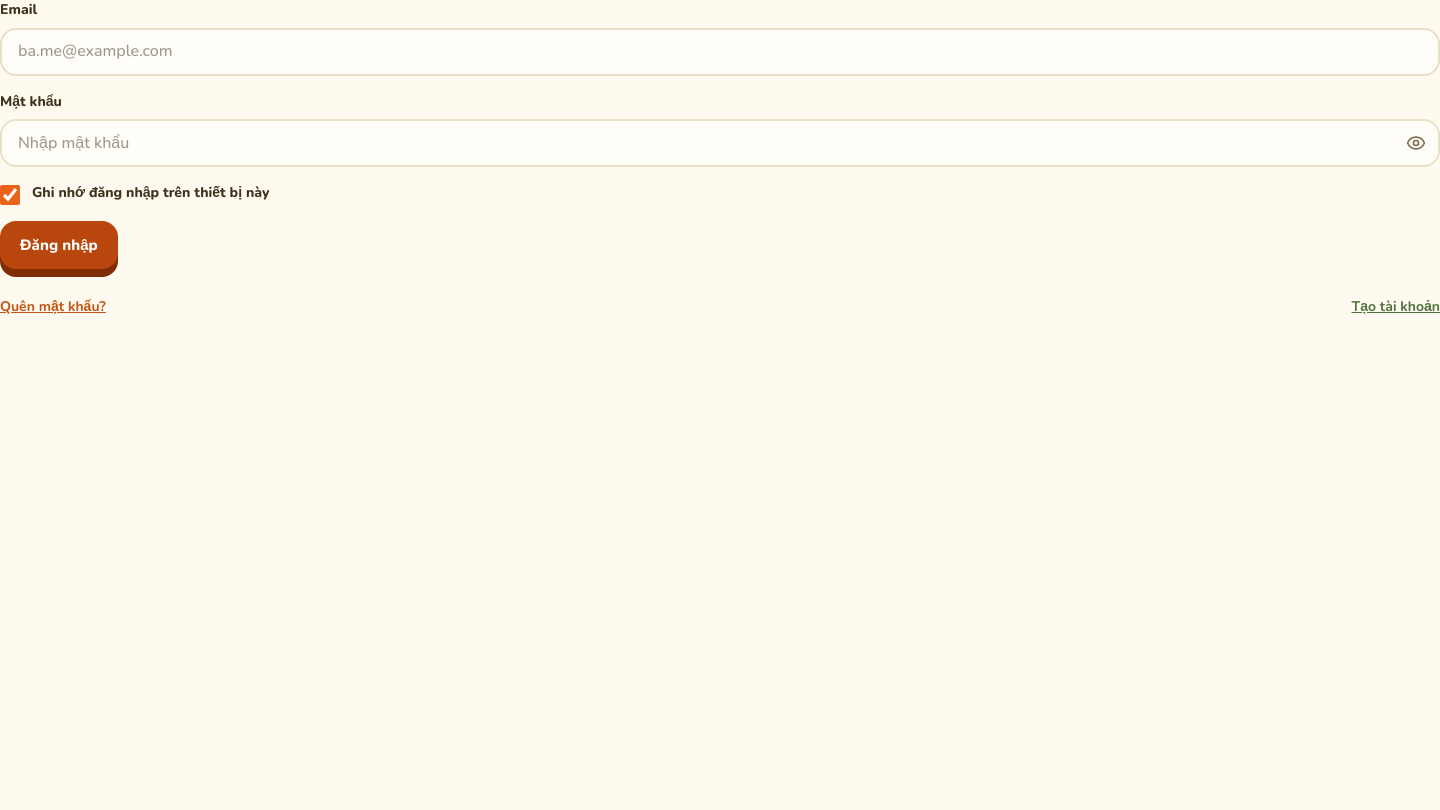
Test case: authentication verification UX › opens the verification dialog instead of exposing the English server error
In the field labelled "Email": (720, 52) [0,28,1439,76], type "parent@example.com"
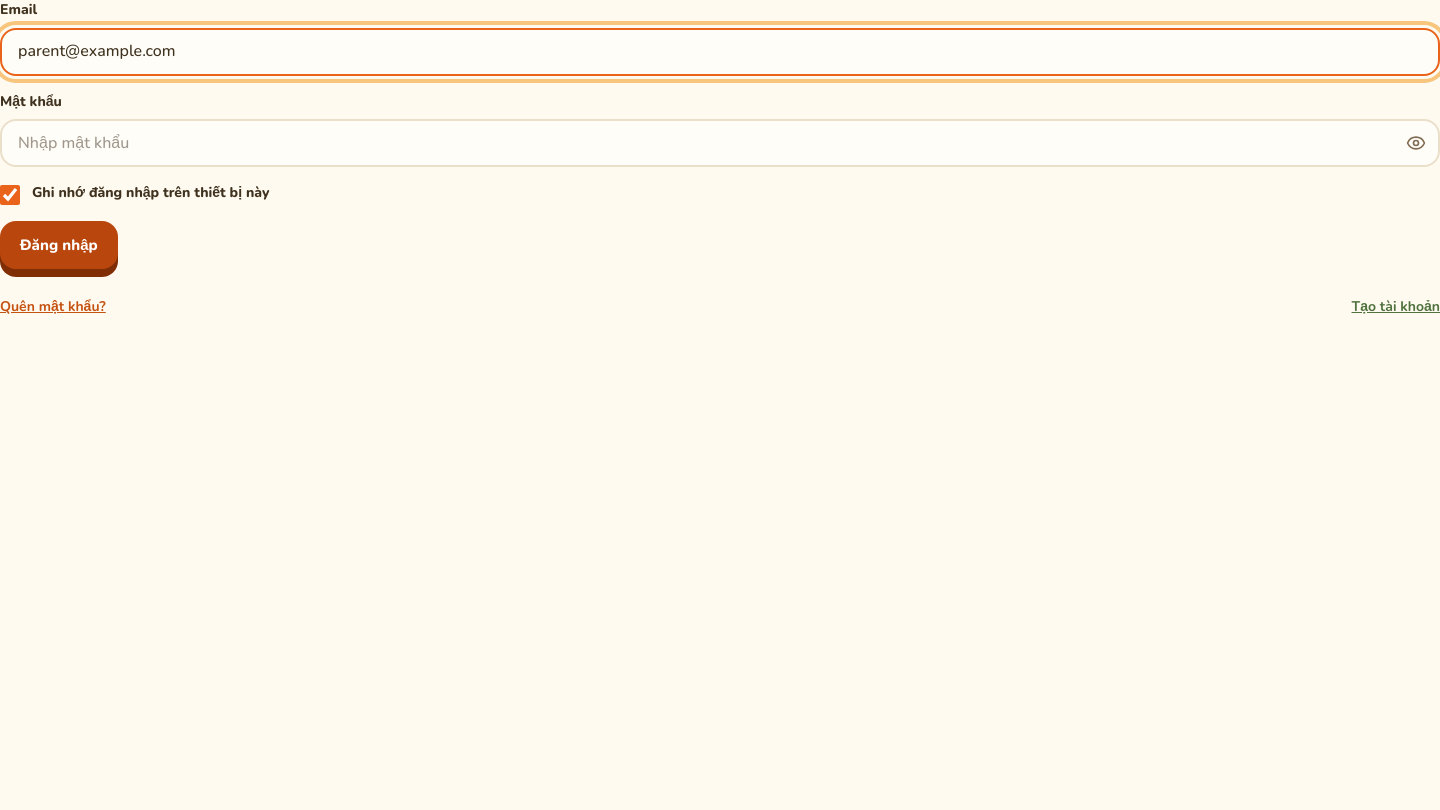
In the password field labelled "Mật khẩu": (720, 143) [0,119,1439,167], type "StrongPass123!"
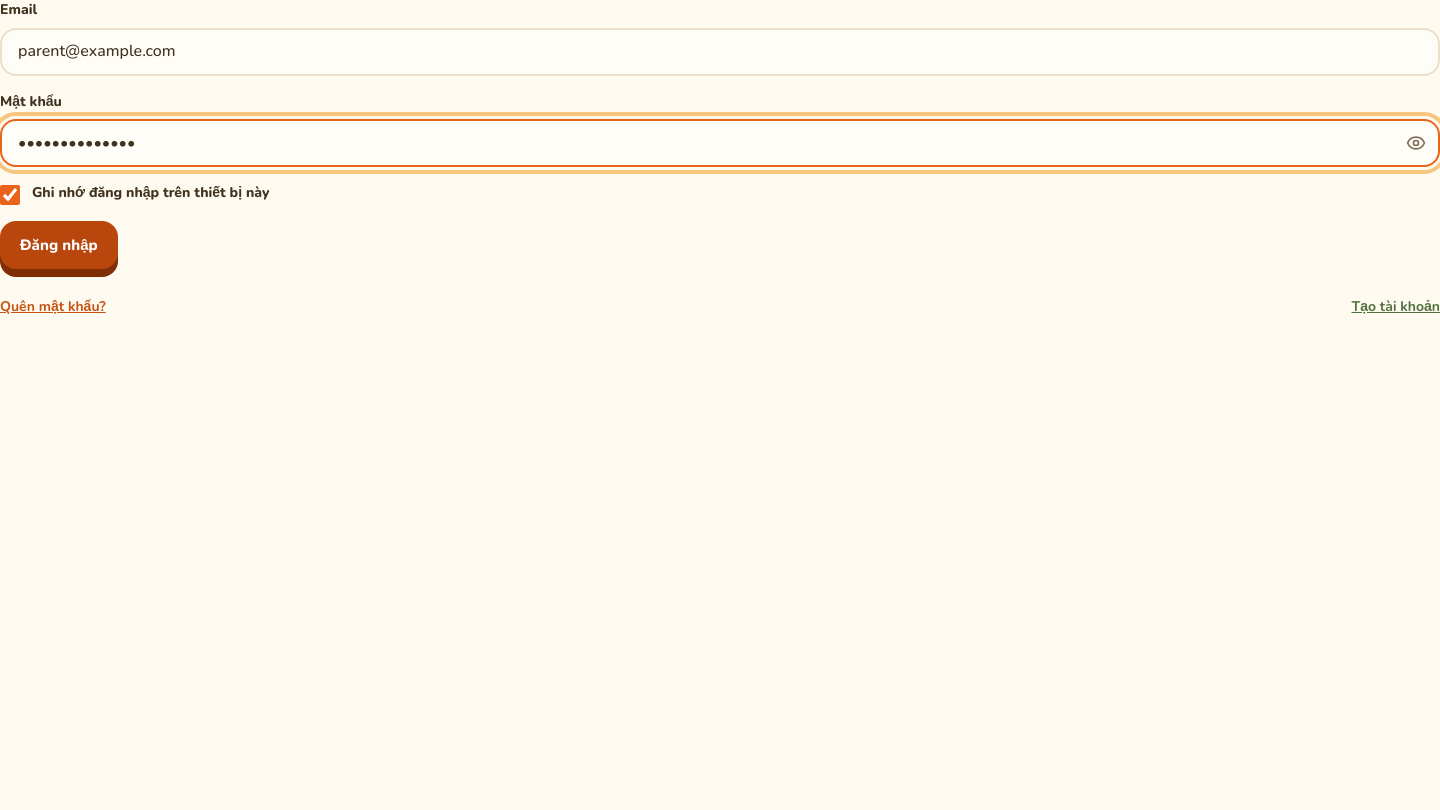
Click the button "Đăng nhập": (59, 245) [0,221,118,269]
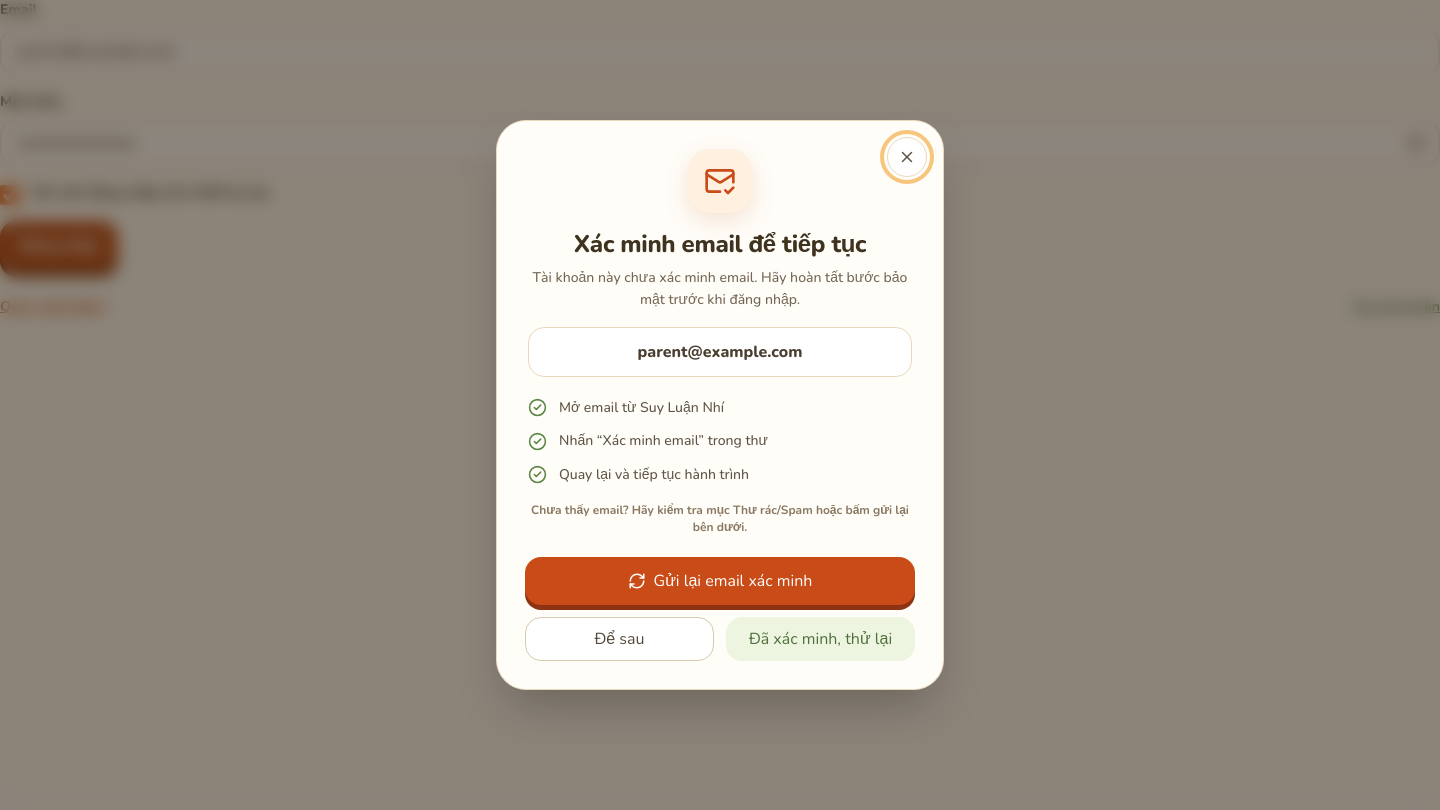
Expected: the dialog is shown, [496,120,944,690]
Expected: the heading "Xác minh email để tiếp tục" is shown, [574,228,866,260]
Expected: the text "parent@example.com" is shown, [528,327,912,377]
